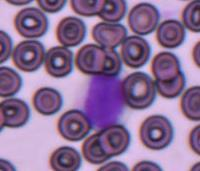L: (82, 73, 126, 131)
